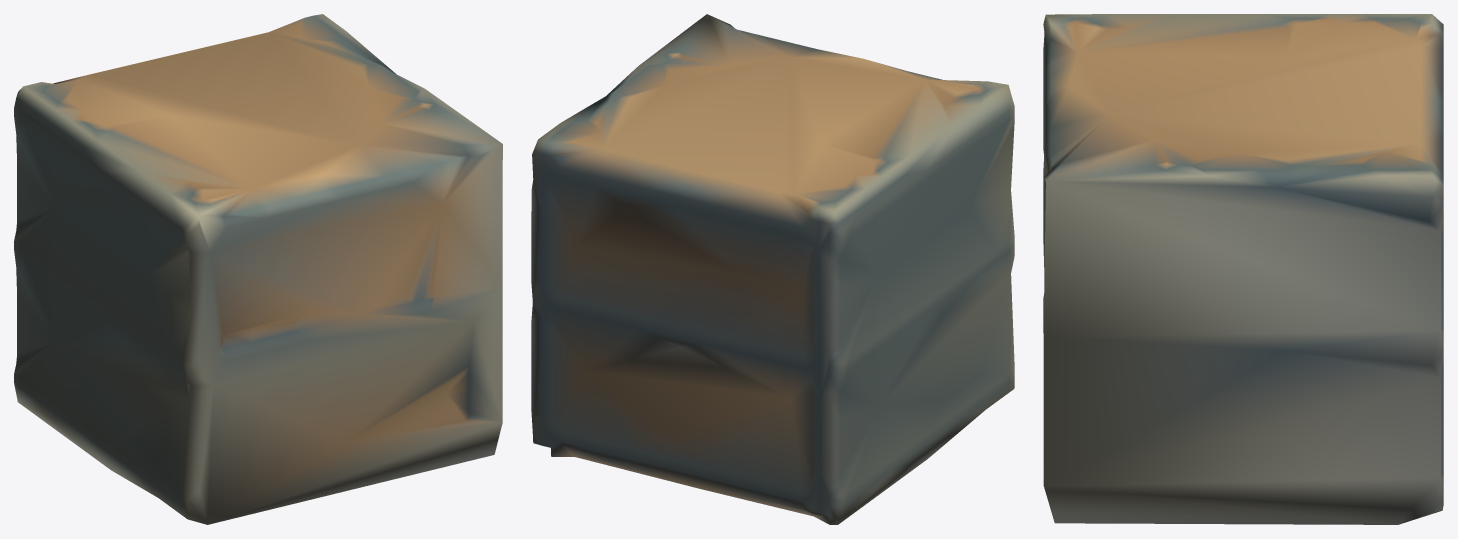
The model's file is env_p_crate.glb.
3 renders of one model, left to right at view 1: azimuth 30°, elevation 25°; view 2: azimuth 150°, elevation 25°; view 3: azimuth 270°, elevation 25°, orthographic. The views are drawn at different scales.
Visible parts, largest first — view 1: geometry_0; view 2: geometry_0; view 3: geometry_0.
Part boxes in pixels (x1=…): geometry_0: x1=14, y1=14, x2=502, y2=524; geometry_0: x1=531, y1=14, x2=1014, y2=524; geometry_0: x1=1043, y1=14, x2=1443, y2=524.
Size of the model in its own units: 1.04 by 1.01 by 1.04.
